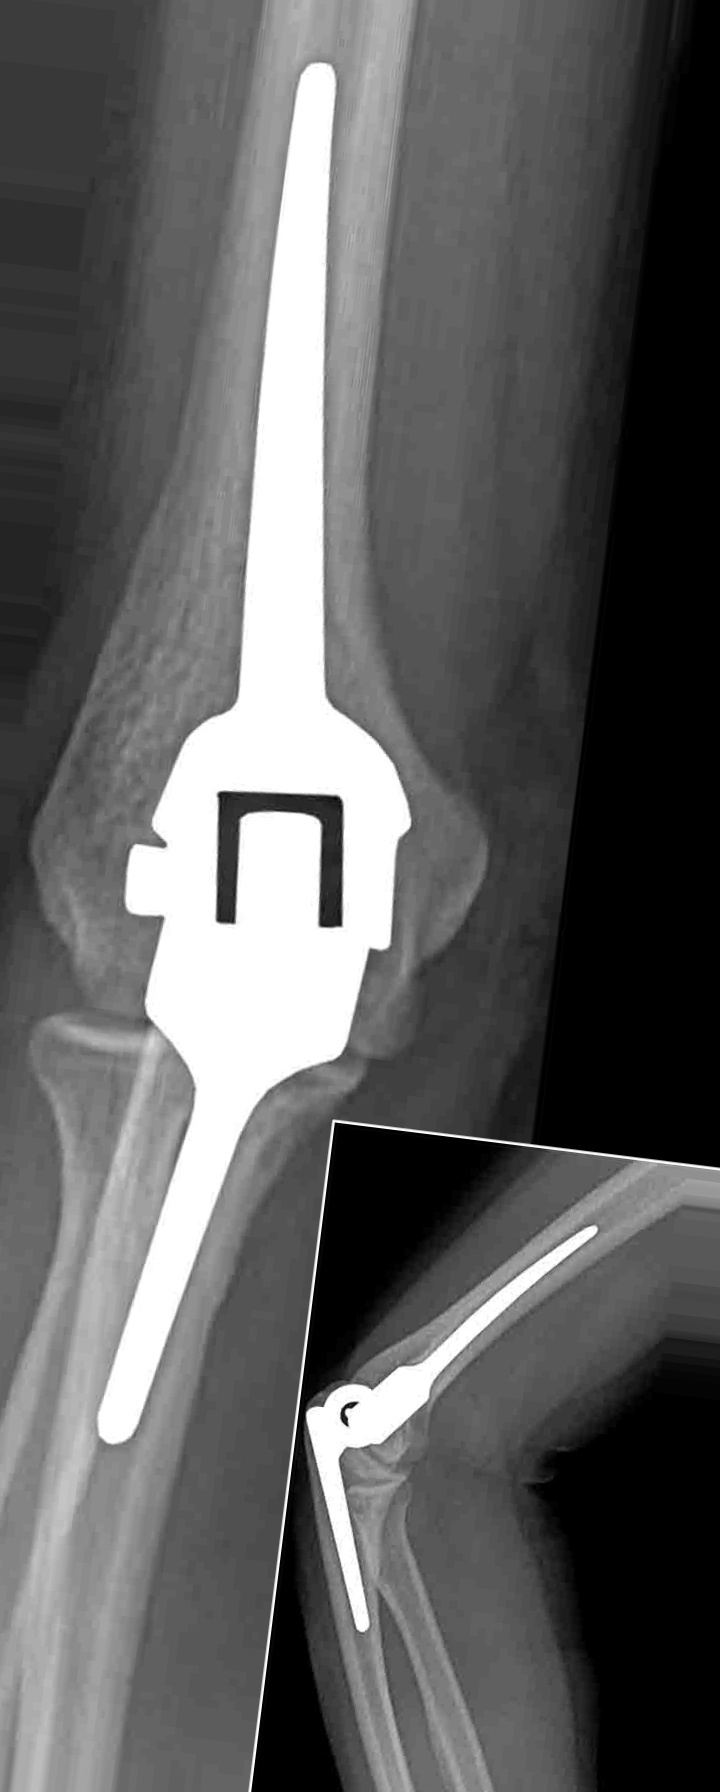Elbow - Osteonics - Stryker: (86, 46, 421, 1302), (302, 1179, 603, 1648)
